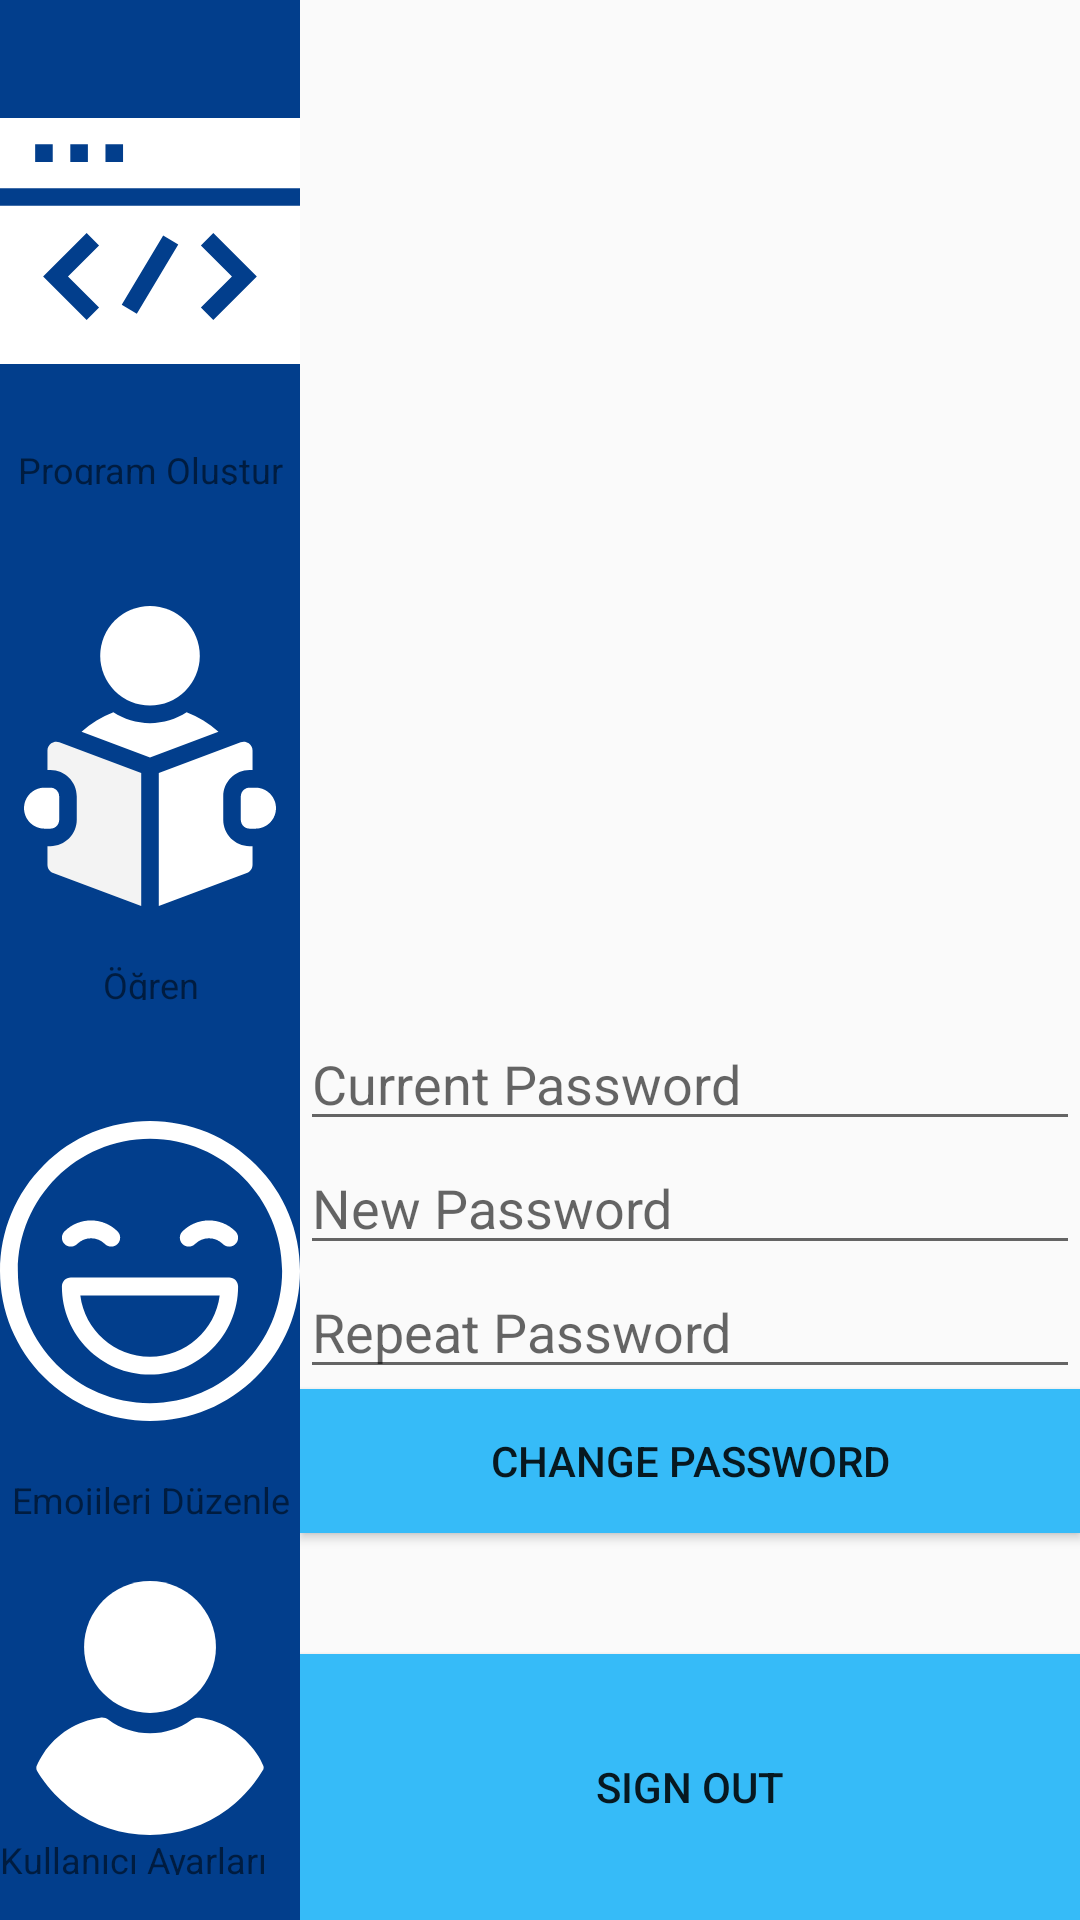

Named icons in this screenshot (1080 × 1920) and their centers, [x,y]:
happy: [150,1271]
tutorials: [150,756]
